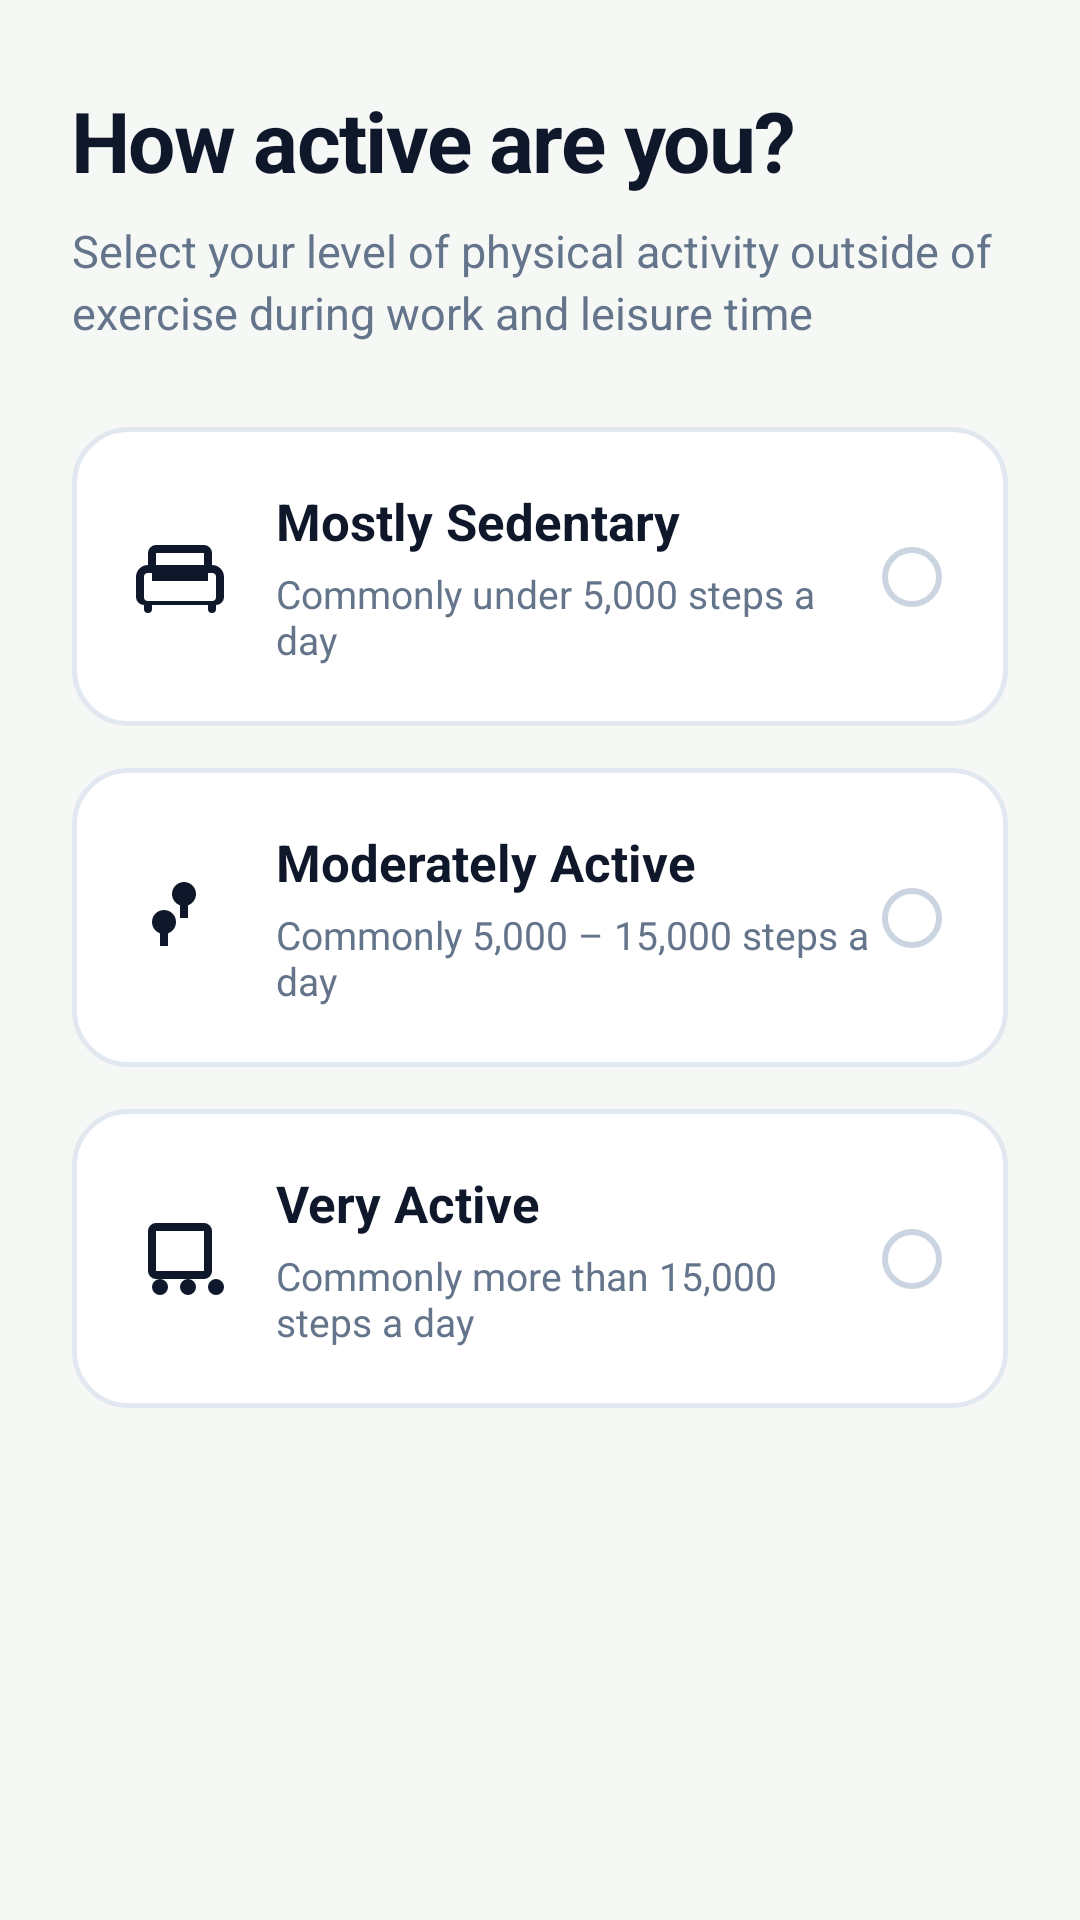

Icons on this 1080w x 1920h Android screen, each with the point to tap as point (x, y):
couch: point (180, 579)
footsteps: point (174, 914)
radio: point (912, 577), point (912, 918), point (912, 1259)
